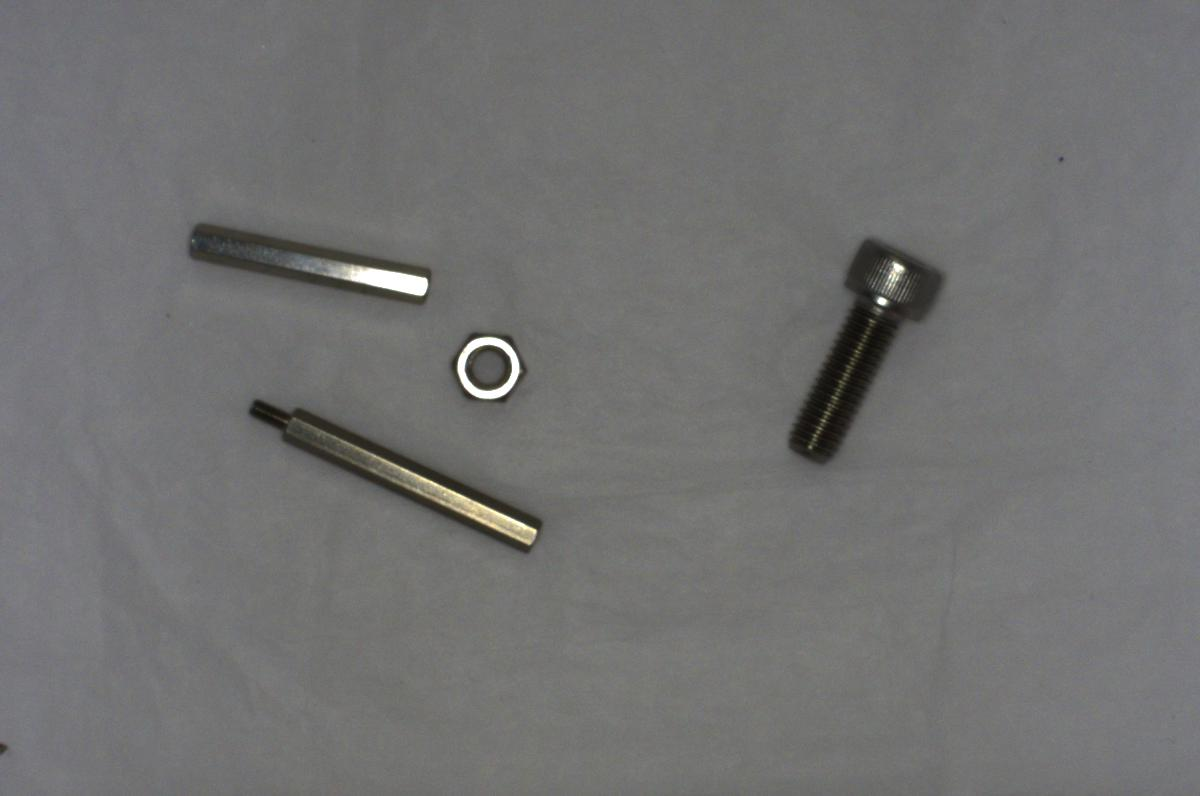Double hexagonal column: (179, 218, 437, 312)
Hexagon nut: (444, 323, 521, 405)
Hexagon screw: (775, 229, 946, 468)
Hexagonal steel column: (237, 395, 544, 553)
